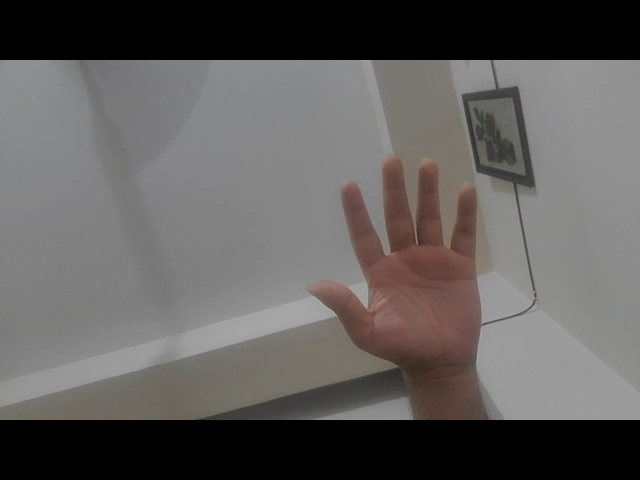Hello: (290, 149, 504, 376)
